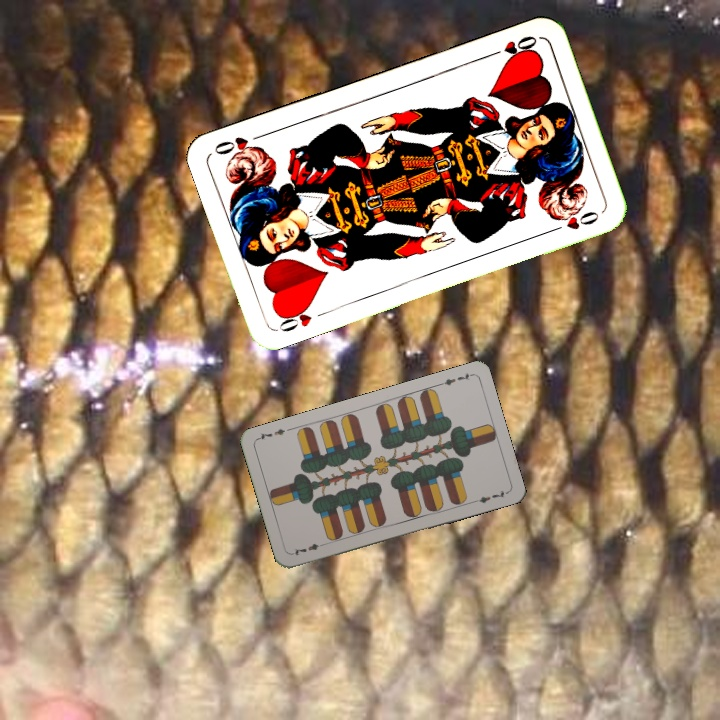E7: (288, 539, 328, 558), (435, 369, 475, 388)
HO: (483, 31, 540, 62), (273, 300, 315, 335)
